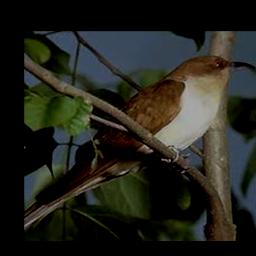Cuckoo: (24, 52, 256, 228)
